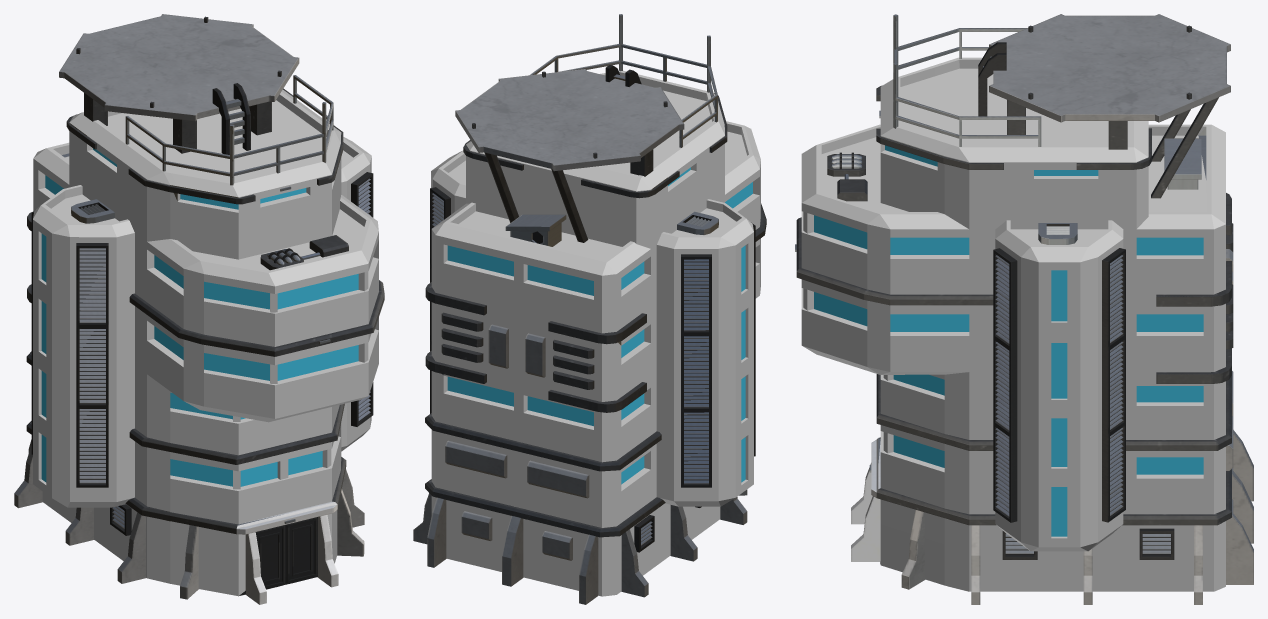
File: House4.fbx
3 renders of one model, left to right at view 1: azimuth 30°, elevation 25°; view 2: azimuth 150°, elevation 25°; view 3: azimuth 270°, elevation 25°, orthographic. The views are drawn at different scales.
Parts seen in each view (by area): view 1: Cube.060_Cube.111; view 2: Cube.060_Cube.111; view 3: Cube.060_Cube.111.
Part boxes in pixels (left/top/right/bottom): Cube.060_Cube.111: left=14, top=14, right=384, bottom=604; Cube.060_Cube.111: left=413, top=14, right=766, bottom=604; Cube.060_Cube.111: left=795, top=14, right=1253, bottom=604.
Size of the model in its own units: 946 by 1318 by 1092.
